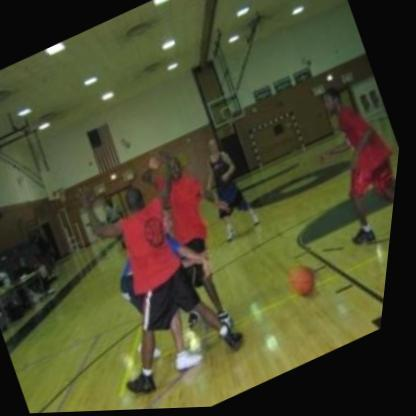basketball: (286, 258, 331, 306)
